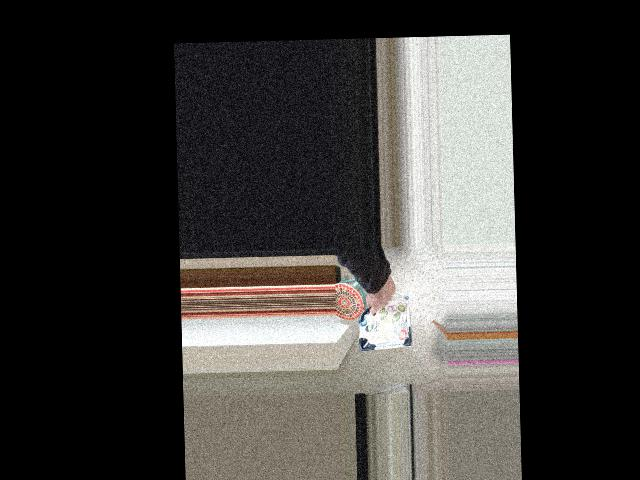cheese: (350, 279, 418, 348)
